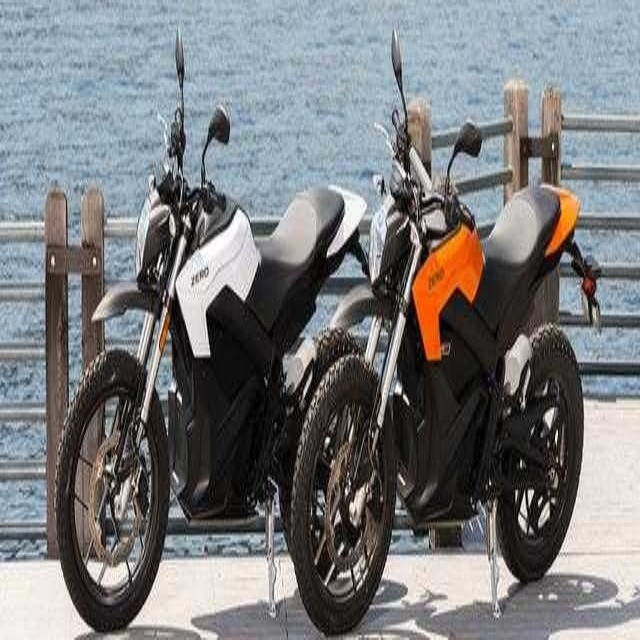Motorcycle: (290, 20, 602, 640), (53, 25, 369, 633)
